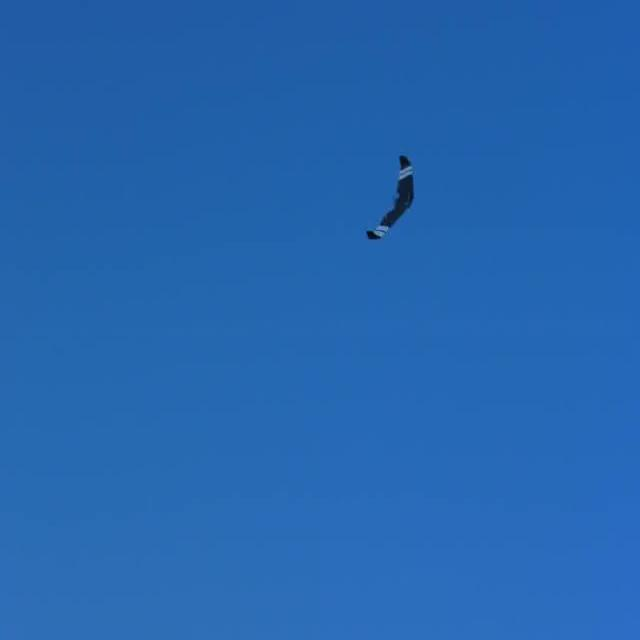iha: (358, 173, 418, 211)
